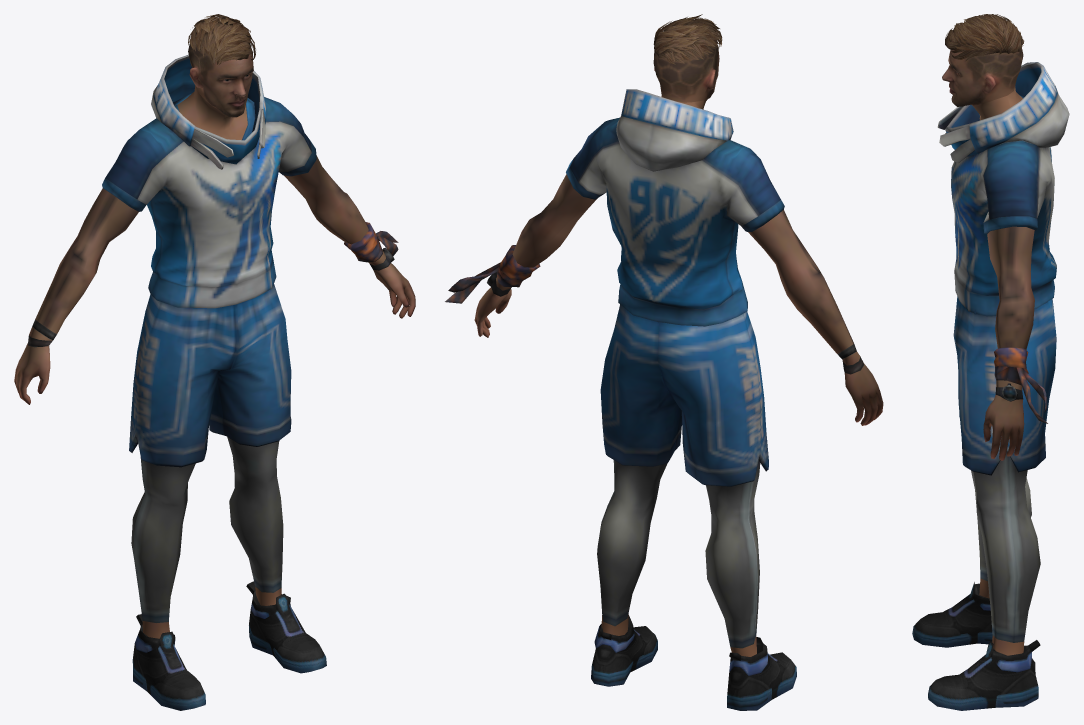
File: Luqueta.FBX
3 renders of one model, left to right at view 1: azimuth 30°, elevation 25°; view 2: azimuth 150°, elevation 25°; view 3: azimuth 270°, elevation 25°, orthographic. The views are drawn at different scales.
Visible parts, largest first — view 1: Mesh_0025.rip; view 2: Mesh_0025.rip; view 3: Mesh_0025.rip.
Part boxes in pixels (x1,y1,x2,y2): Mesh_0025.rip: [14, 14, 415, 710]; Mesh_0025.rip: [445, 14, 883, 710]; Mesh_0025.rip: [912, 14, 1069, 710].
Bounding box in the file's own units: 1.19 × 1.83 × 0.4001.
